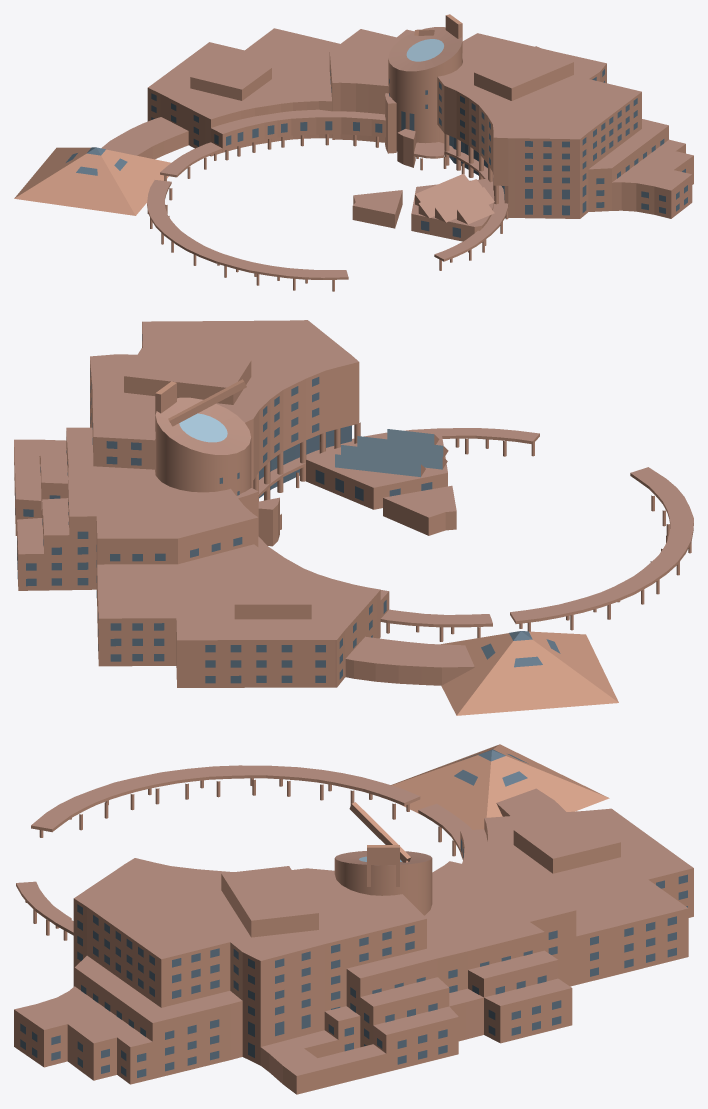
The model's file is lv-clark-county-government-center.glb.
3 renders of one model, top to bottom at view 1: azimuth 30°, elevation 25°; view 2: azimuth 150°, elevation 25°; view 3: azimuth 270°, elevation 25°, orthographic. The views are drawn at different scales.
Parts seen in each view (by area): view 1: Clark County Government Center; view 2: Clark County Government Center; view 3: Clark County Government Center.
Part boxes in pixels (x1,y1,x2,y2): Clark County Government Center: (14, 14, 693, 291); Clark County Government Center: (14, 320, 693, 715); Clark County Government Center: (14, 744, 693, 1094).
Bounding box in the file's own units: 201 × 43.82 × 165.
